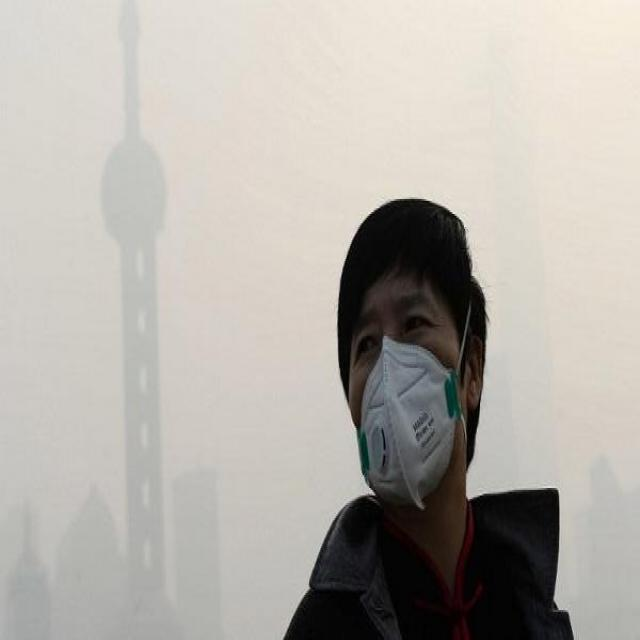mask: (352, 259, 459, 507)
